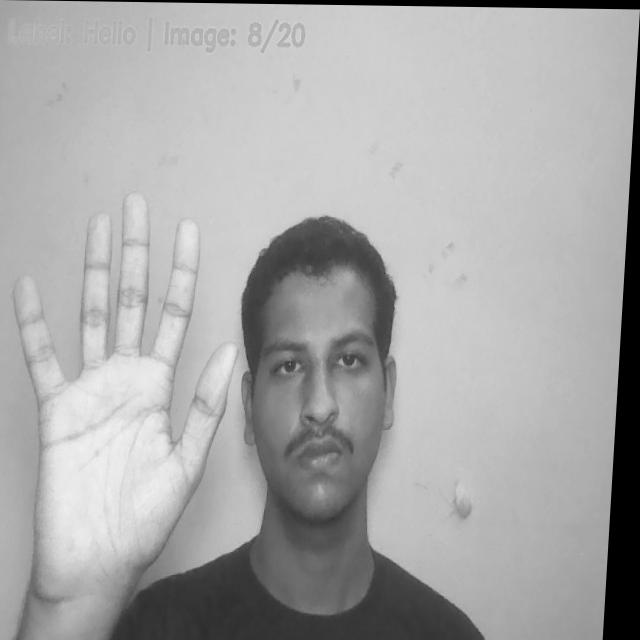Hello: (1, 188, 247, 566)
